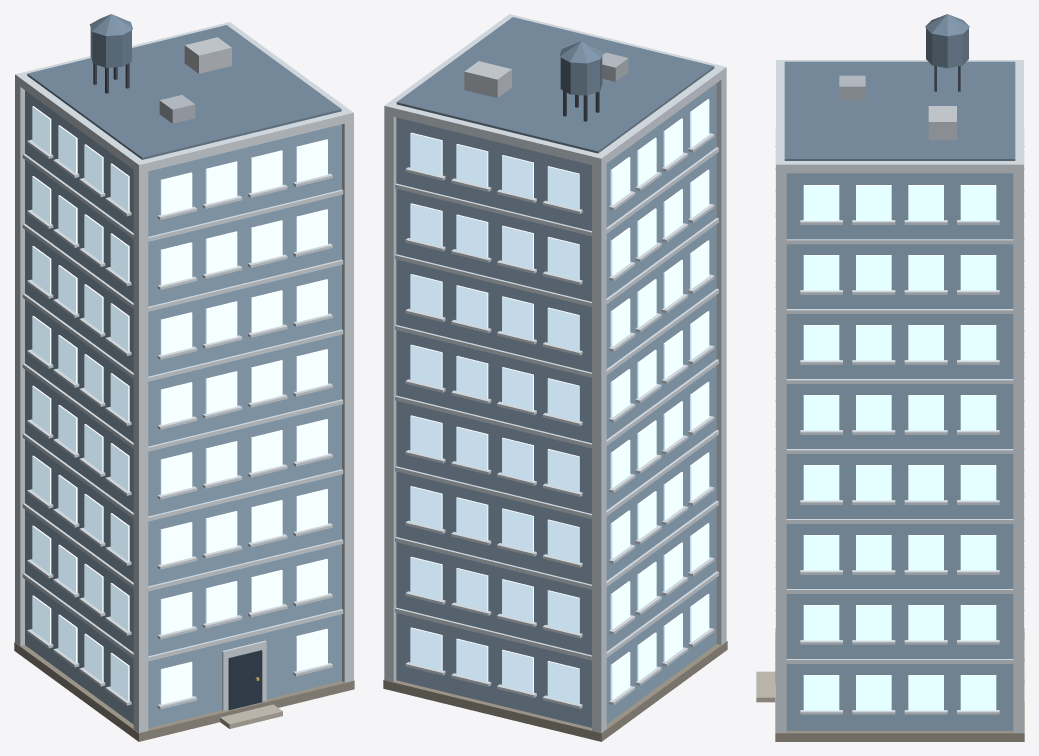
File: torre-horizonte.glb
3 views of the same model, side by side, from view 1: azimuth 30°, elevation 25°; view 2: azimuth 150°, elevation 25°; view 3: azimuth 270°, elevation 25° (orthographic).
Visible parts, largest first — view 1: torre-horizonte_1, torre-horizonte_3, torre-horizonte_2, torre-horizonte_7, torre-horizonte_0, torre-horizonte_4, torre-horizonte_8, torre-horizonte_6, torre-horizonte_9; view 2: torre-horizonte_1, torre-horizonte_3, torre-horizonte_2, torre-horizonte_7, torre-horizonte_0, torre-horizonte_8, torre-horizonte_9; view 3: torre-horizonte_1, torre-horizonte_3, torre-horizonte_2, torre-horizonte_7, torre-horizonte_0, torre-horizonte_8, torre-horizonte_9, torre-horizonte_6.
Boxes of the visible parts, x1,y1,x2,y2 form: torre-horizonte_1: (25, 90, 341, 727); torre-horizonte_3: (32, 106, 327, 704); torre-horizonte_2: (15, 22, 353, 732); torre-horizonte_7: (27, 14, 341, 159); torre-horizonte_0: (14, 642, 354, 741); torre-horizonte_4: (228, 650, 262, 710); torre-horizonte_8: (184, 37, 231, 73); torre-horizonte_6: (220, 704, 282, 728); torre-horizonte_9: (159, 95, 195, 123); torre-horizonte_1: (396, 83, 716, 727); torre-horizonte_3: (410, 99, 709, 704); torre-horizonte_2: (384, 14, 726, 732); torre-horizonte_7: (396, 17, 714, 153); torre-horizonte_0: (383, 641, 727, 741); torre-horizonte_8: (464, 61, 511, 97); torre-horizonte_9: (602, 52, 628, 81); torre-horizonte_1: (786, 173, 1013, 730); torre-horizonte_3: (803, 185, 996, 710); torre-horizonte_2: (775, 60, 1024, 732); torre-horizonte_7: (784, 14, 1015, 160); torre-horizonte_0: (775, 628, 1024, 741); torre-horizonte_8: (928, 106, 956, 140); torre-horizonte_9: (839, 75, 865, 100); torre-horizonte_6: (756, 671, 775, 702).
Bounding box in the file's own units: 10.5 × 30.25 × 11.3.
